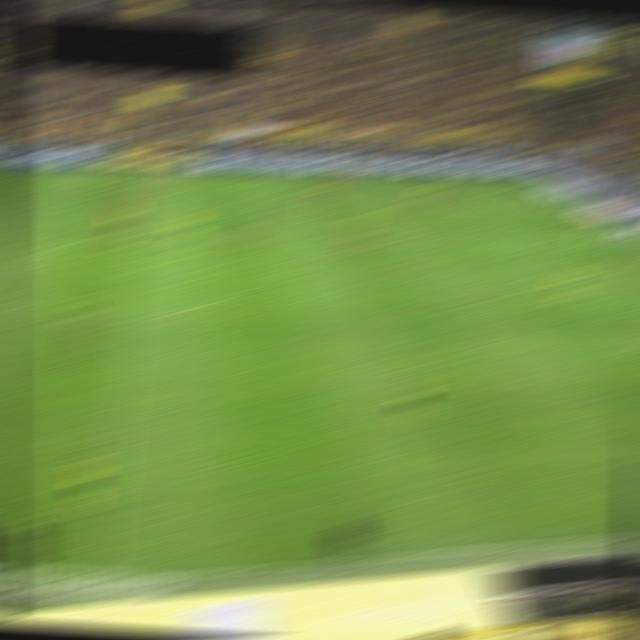bigarea_top_inner: (442, 204, 470, 213)
bigarea_top_outter: (567, 206, 596, 215)
bottom_arc_area_intersection: (552, 293, 584, 305)
corner: (516, 176, 544, 185)
halfcircle_bottom: (116, 311, 144, 320)
halfcircle_top: (126, 231, 154, 239)
midline_bottom_intersection: (79, 572, 123, 592)
midline_top_intersection: (131, 169, 159, 178)
smallarea_top_inner: (575, 235, 604, 244)
smallarea_top_outter: (620, 234, 640, 242)
top_arc_area_intersection: (486, 239, 515, 247)
